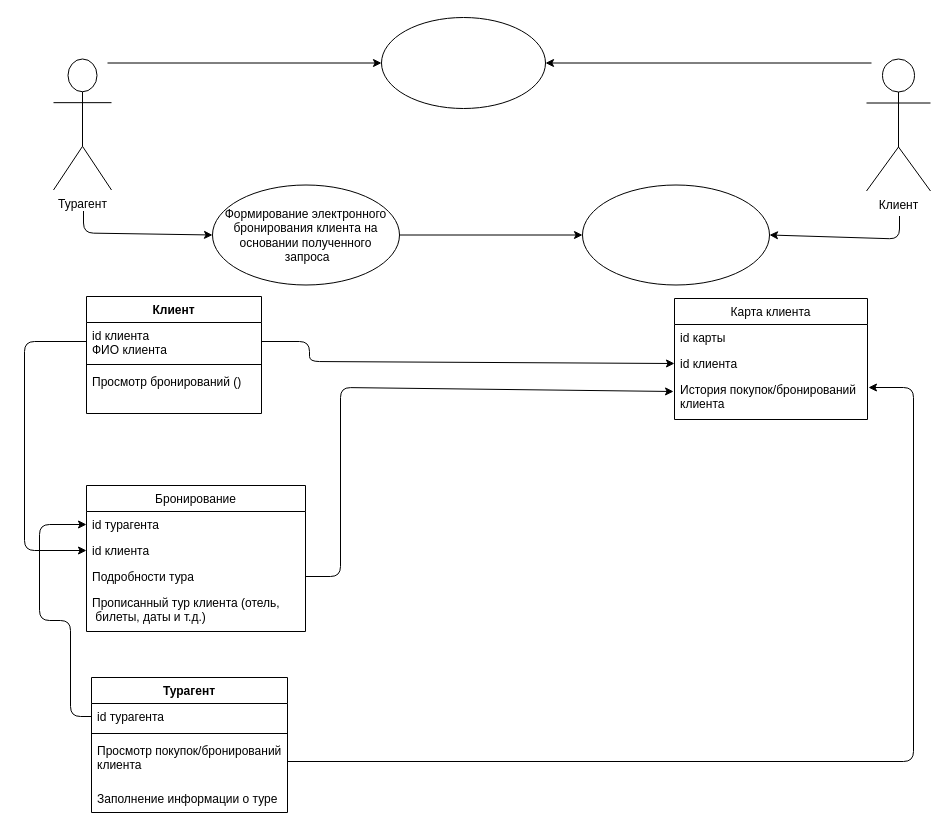
Some shapes in this 948 by 833 pixel diagram are drawn without their labels. The shapes that lost their labels are listed below. From the top down, each one's centre as x and y in pixels, then its label:
At point 463,62: "Просмотр электронной карты клиента".
At point 676,234: "Сформированный тур".
